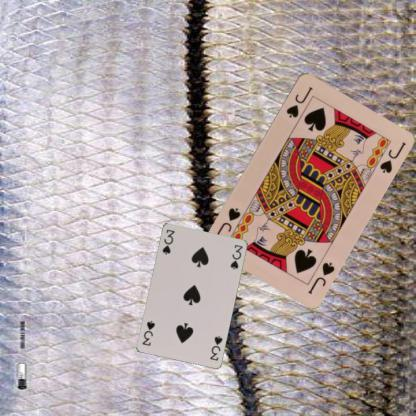3s: (160, 226, 176, 256), (208, 332, 224, 362)
Js: (304, 259, 336, 295), (284, 84, 314, 119)
